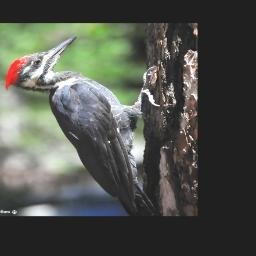Woodpecker: (3, 35, 160, 215)
